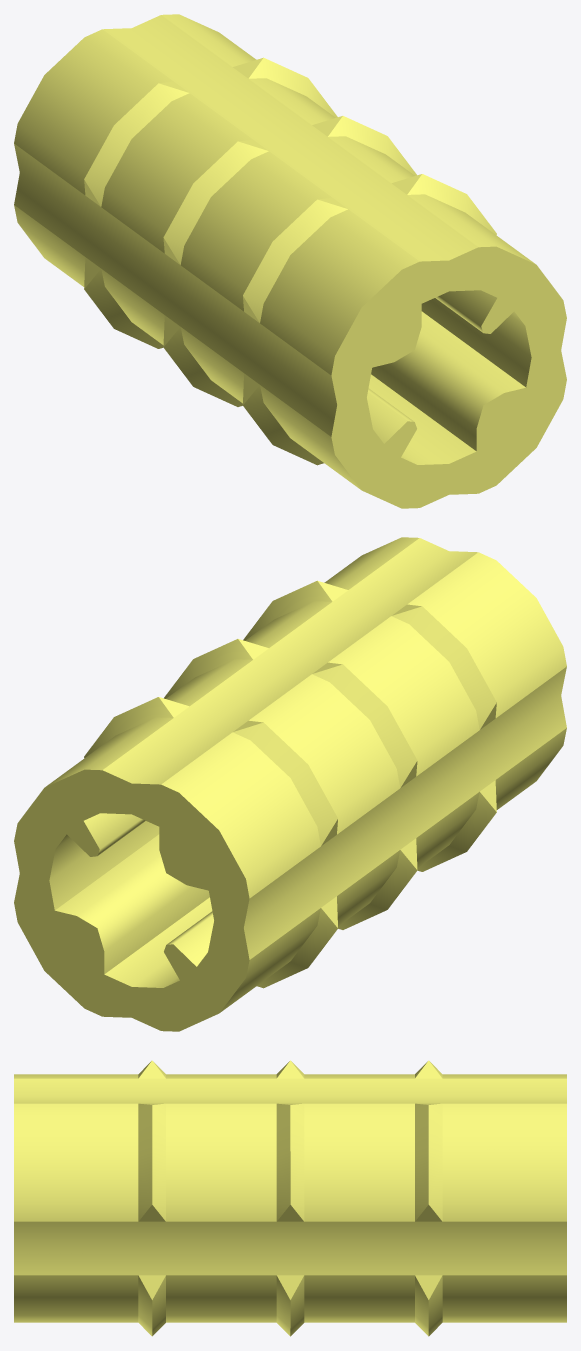
3 views of the same model, one above another, from view 1: azimuth 30°, elevation 25°; view 2: azimuth 150°, elevation 25°; view 3: azimuth 270°, elevation 25° (orthographic). The views are drawn at different scales.
Parts seen in each view (by area): view 1: 6538b.dat; view 2: 6538b.dat; view 3: 6538b.dat.
Boxes of the visible parts, x1,y1,x2,y2 form: 6538b.dat: (14,14,566,508); 6538b.dat: (14,537,566,1031); 6538b.dat: (14,1060,566,1336).
Bounding box in the file's own units: 0.00739 × 0.00739 × 0.016.
